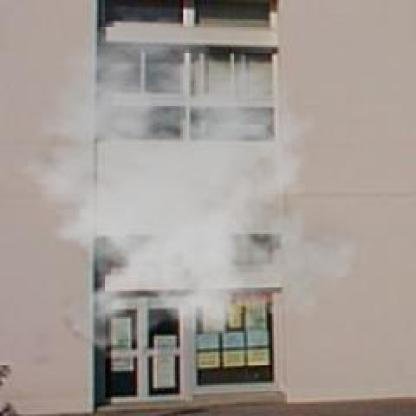Smoke: (2, 15, 354, 356)
